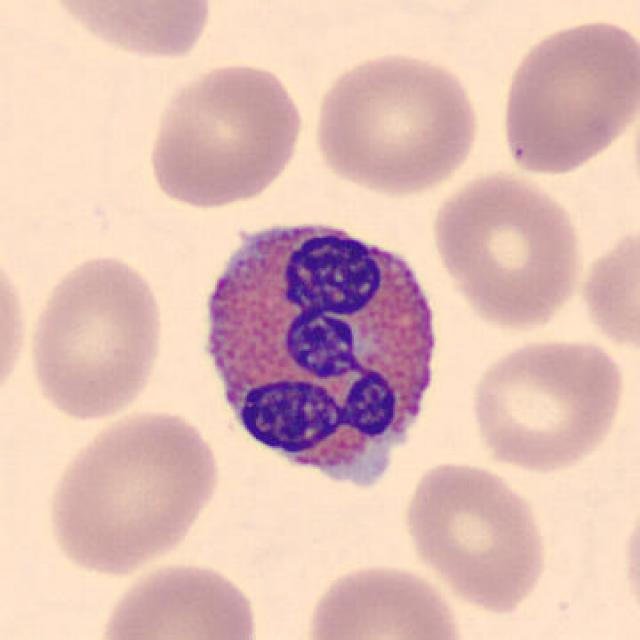Eosinophil: (188, 201, 454, 502)
RBC: (41, 406, 224, 578), (306, 48, 485, 198), (21, 248, 171, 425), (426, 168, 586, 333), (142, 58, 308, 210), (398, 457, 551, 615), (494, 12, 636, 178), (466, 333, 628, 474), (93, 557, 263, 640), (300, 559, 470, 640), (41, 0, 219, 62), (576, 217, 638, 356), (0, 243, 32, 413), (617, 494, 640, 630)
